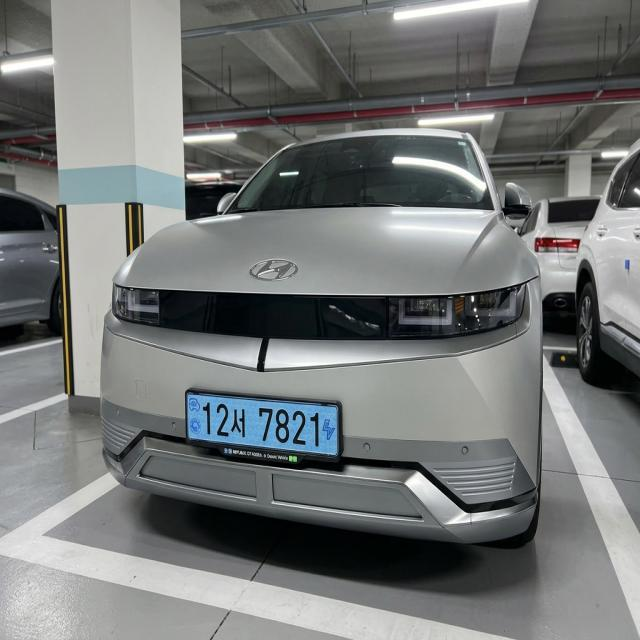car: (177, 379, 352, 479)
carev: (319, 402, 337, 459), (186, 389, 203, 446)
